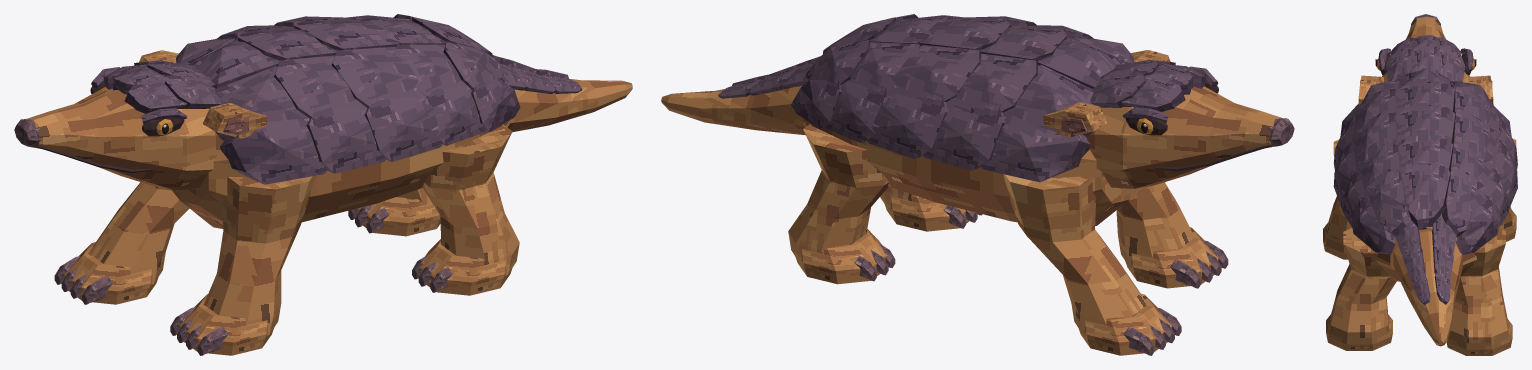
File: Farejador_de_Duna_Low_Poly.glb
3 views of the same model, side by side, from view 1: azimuth 30°, elevation 25°; view 2: azimuth 150°, elevation 25°; view 3: azimuth 270°, elevation 25° (orthographic). The views are drawn at different scales.
Parts seen in each view (by area): view 1: Cabeça · focinho em cunha, Perna Dianteira esquerda, Perna Traseira esquerda, Corpo · ombros e ventre, Perna Dianteira direita, Placa do dorso · 01.01, Placa do dorso · 02.01, Placa do dorso · 03.01, Placa do dorso · 03.02, Cauda afunilada, Placa do dorso · 02.02, Placa do dorso · 01.02 (+23 smaller); view 2: Cabeça · focinho em cunha, Perna Dianteira direita, Corpo · ombros e ventre, Perna Traseira direita, Placa do dorso · 01.05, Cauda afunilada, Perna Dianteira esquerda, Placa do dorso · 03.04, Placa do dorso · 03.05, Placa do dorso · 02.04, Placa do dorso · 02.05, Placa do dorso · 01.04 (+23 smaller); view 3: Perna Traseira esquerda, Perna Traseira direita, Cauda afunilada, Placa do dorso · 05.03, Placa do dorso · 05.02, Placa do dorso · 03.03, Placa do dorso · 05.04, Placa do dorso · 03.04, Placa do dorso · 03.02, Placa do dorso · 05.05, Placa do dorso · 05.01, Placa do dorso · 02.03 (+37 smaller).
Part boxes in pixels (<box>): Cabeça · focinho em cunha: <box>25,87,223,190</box>; Perna Dianteira esquerda: <box>204,175,315,335</box>; Perna Traseira esquerda: <box>423,124,519,275</box>; Corpo · ombros e ventre: <box>171,120,509,228</box>; Perna Dianteira direita: <box>89,182,189,284</box>; Placa do dorso · 01.01: <box>220,118,327,184</box>; Placa do dorso · 02.01: <box>306,106,385,173</box>; Placa do dorso · 03.01: <box>364,96,443,161</box>; Placa do dorso · 03.02: <box>331,47,426,107</box>; Cauda afunilada: <box>507,76,632,132</box>; Placa do dorso · 02.02: <box>274,55,367,119</box>; Placa do dorso · 01.02: <box>214,66,309,140</box>; Cabeça · focinho em cunha: <box>1086,86,1283,188</box>; Perna Dianteira direita: <box>1002,174,1147,335</box>; Corpo · ombros e ventre: <box>803,119,1138,225</box>; Perna Traseira direita: <box>788,124,888,264</box>; Placa do dorso · 01.05: <box>981,115,1090,182</box>; Cauda afunilada: <box>661,85,805,135</box>; Perna Dianteira esquerda: <box>1116,182,1194,268</box>; Placa do dorso · 03.04: <box>886,45,980,102</box>; Placa do dorso · 03.05: <box>867,93,947,158</box>; Placa do dorso · 02.04: <box>946,53,1037,117</box>; Placa do dorso · 02.05: <box>922,106,1004,170</box>; Placa do dorso · 01.04: <box>1003,65,1094,136</box>; Perna Traseira esquerda: <box>1328,228,1396,344</box>; Perna Traseira direita: <box>1448,228,1510,349</box>; Cauda afunilada: <box>1393,230,1462,346</box>; Placa do dorso · 05.03: <box>1401,162,1450,229</box>; Placa do dorso · 05.02: <box>1363,169,1409,237</box>; Placa do dorso · 03.03: <box>1396,104,1455,146</box>; Placa do dorso · 05.04: <box>1441,168,1486,237</box>; Placa do dorso · 03.04: <box>1451,111,1500,169</box>; Placa do dorso · 03.02: <box>1349,111,1398,171</box>; Placa do dorso · 05.05: <box>1456,194,1500,254</box>; Placa do dorso · 05.01: <box>1351,197,1395,254</box>; Placa do dorso · 02.03: <box>1396,81,1454,114</box>.
Size of the model in its own units: 1.85 by 0.7041 by 0.6452.
8 materials, 4 textured.
